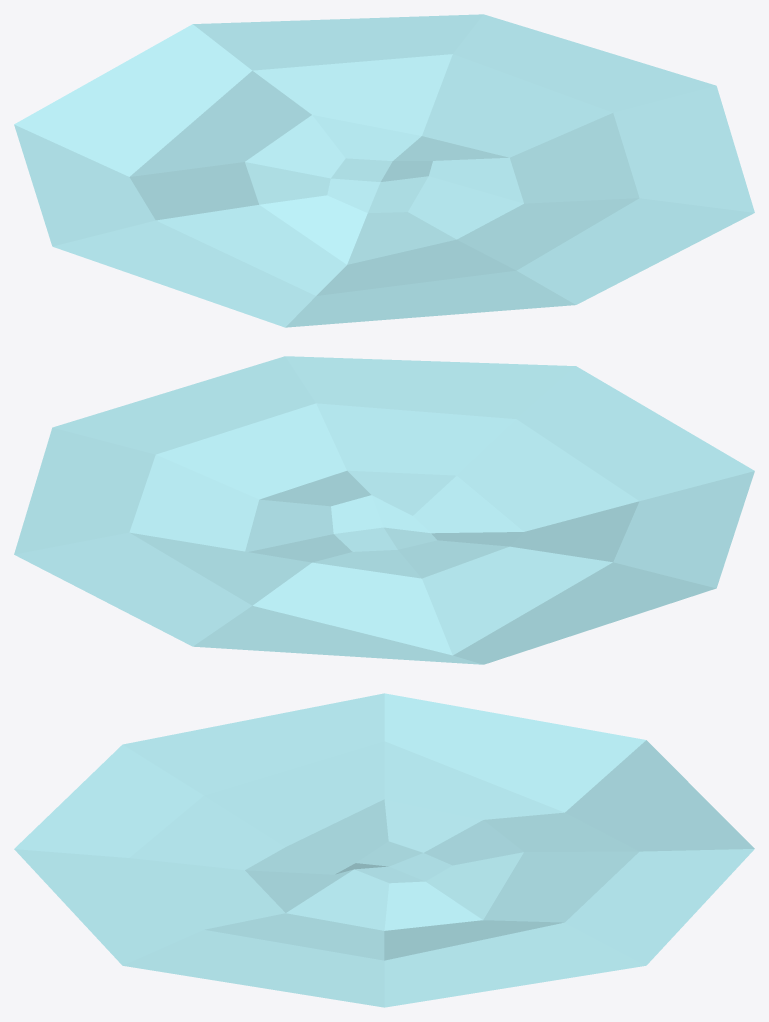
File: Chalice_Water.fbx
3 views of the same model, one above another, from view 1: azimuth 30°, elevation 25°; view 2: azimuth 150°, elevation 25°; view 3: azimuth 270°, elevation 25° (orthographic). The views are drawn at different scales.
Parts seen in each view (by area): view 1: Challice_Liquid_Water; view 2: Challice_Liquid_Water; view 3: Challice_Liquid_Water.
Boxes of the visible parts, x1,y1,x2,y2 form: Challice_Liquid_Water: (14, 14, 754, 327); Challice_Liquid_Water: (14, 356, 754, 664); Challice_Liquid_Water: (14, 693, 754, 1007).
Size of the model in its own units: 147 by 9.3 by 147.
